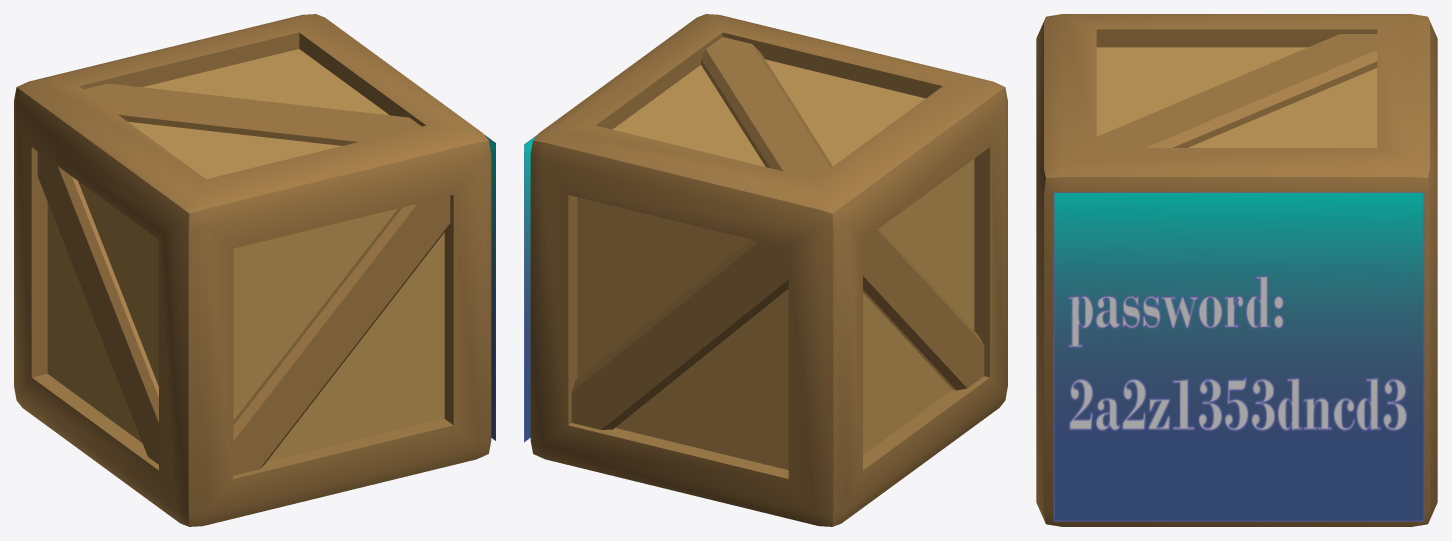
File: Cube Crate.glb
3 views of the same model, side by side, from view 1: azimuth 30°, elevation 25°; view 2: azimuth 150°, elevation 25°; view 3: azimuth 270°, elevation 25° (orthographic). The views are drawn at different scales.
Visible parts, largest first — view 1: Cube_Crate, password; view 2: Cube_Crate, password; view 3: password, Cube_Crate.
Boxes of the visible parts, box(x1,y1,x2,y2) form: Cube_Crate: box(14, 14, 491, 526); password: box(484, 134, 495, 440); Cube_Crate: box(530, 14, 1007, 526); password: box(524, 134, 537, 442); password: box(1053, 192, 1424, 521); Cube_Crate: box(1036, 14, 1437, 526).
Size of the model in its own units: 2.04 by 2.02 by 2.02.
Materials: 3 (1 with a texture image).
